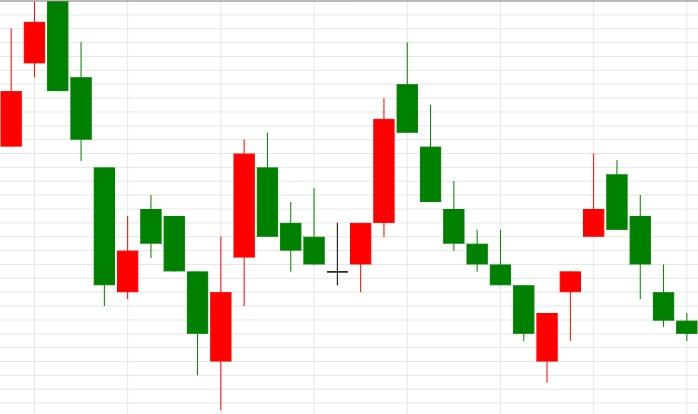bullish_engulfing_rise: (140, 195, 233, 410)
morning_star_rise: (233, 133, 372, 306)
shooting_star_fall: (536, 154, 605, 383)
three_black_crows_fall: (349, 43, 466, 292)
three_white_soldiers_rise: (396, 43, 606, 383)
